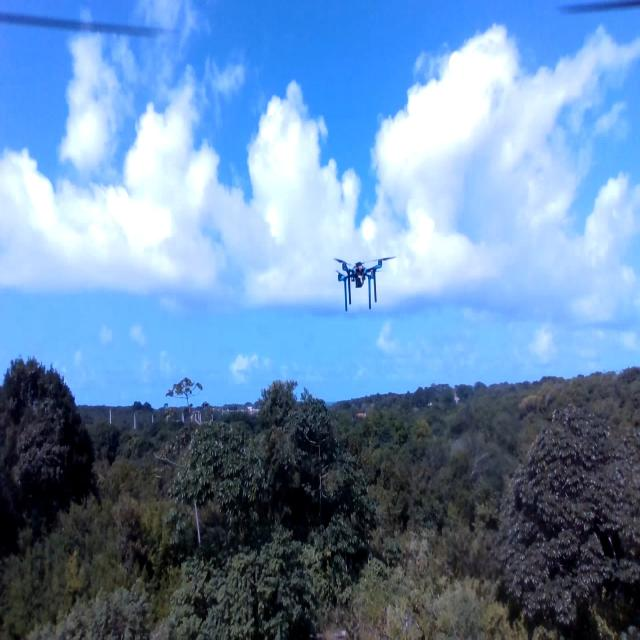-uav-: (316, 230, 399, 324)
